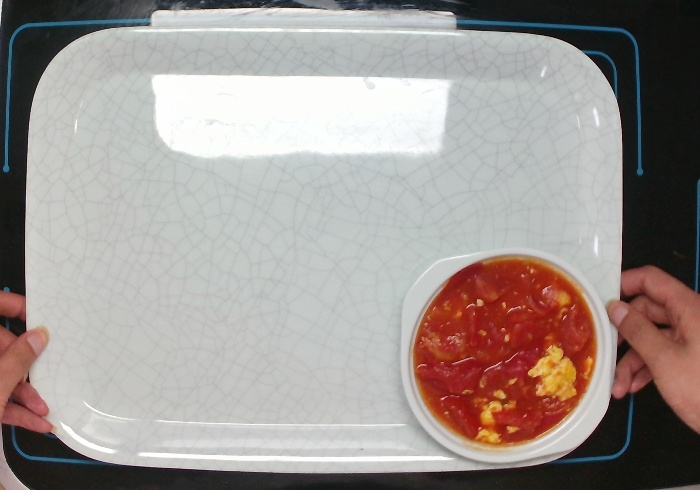JYsf-Shuang_Er_Pan: (394, 243, 617, 467)
